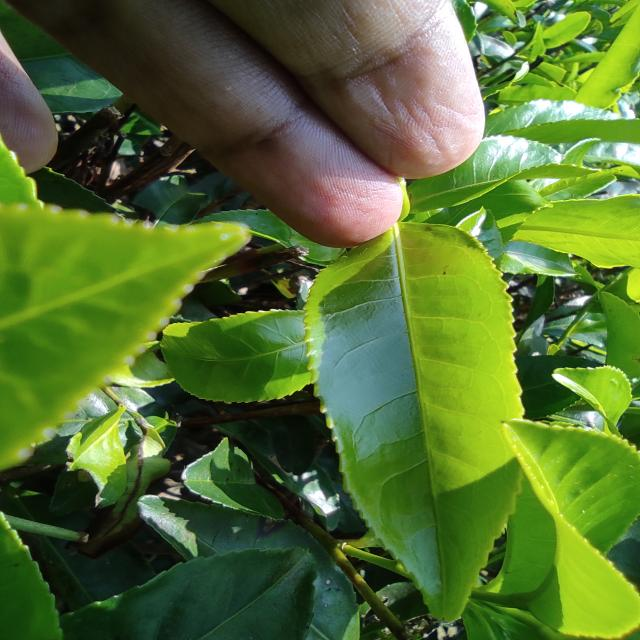Category C(4-7 days): (282, 202, 548, 634)
